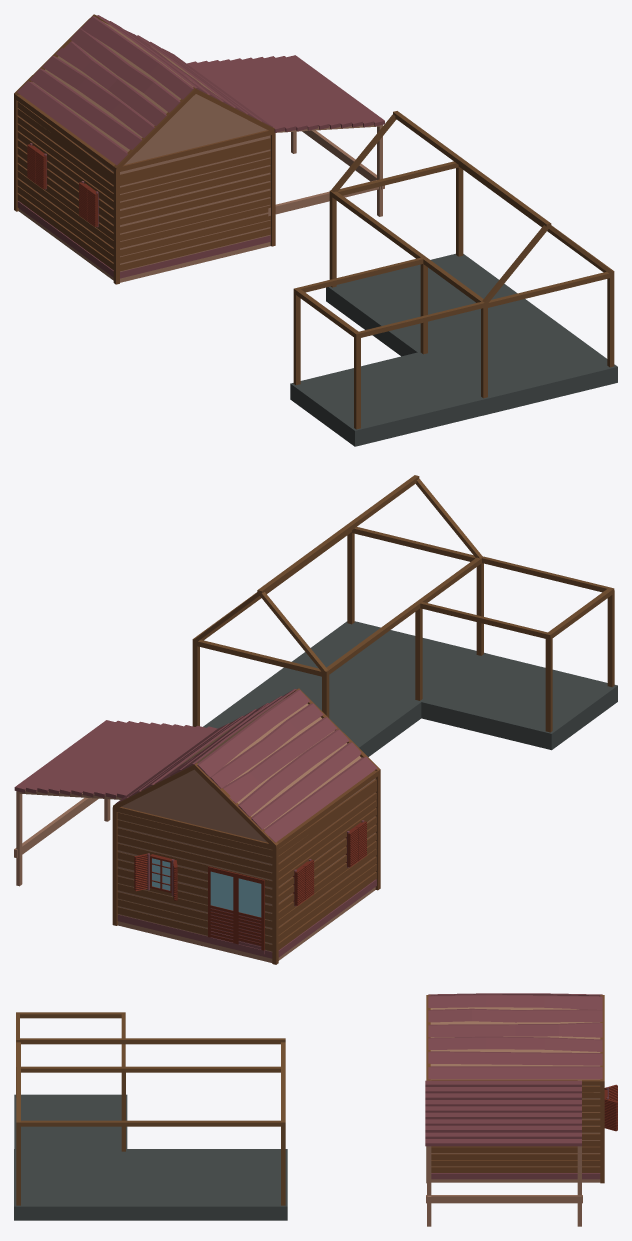
The model's file is Häuser.fbx.
The picture shows the model from 3 angles, top to bottom: view 1: azimuth 30°, elevation 25°; view 2: azimuth 150°, elevation 25°; view 3: azimuth 270°, elevation 25°; orthographic projection. The views are drawn at different scales.
Visible parts, largest first — view 1: Cube.004, Cube.028; view 2: Cube.004, Cube.028; view 3: Cube.004, Cube.028.
Boxes of the visible parts, box(x1,y1,x2,y2) form: Cube.004: box(14, 14, 384, 284); Cube.028: box(290, 111, 617, 446); Cube.004: box(14, 688, 380, 964); Cube.028: box(192, 475, 617, 756); Cube.004: box(425, 993, 617, 1226); Cube.028: box(14, 1012, 287, 1220).
Bounding box in the file's own units: 377 × 243 × 824.
